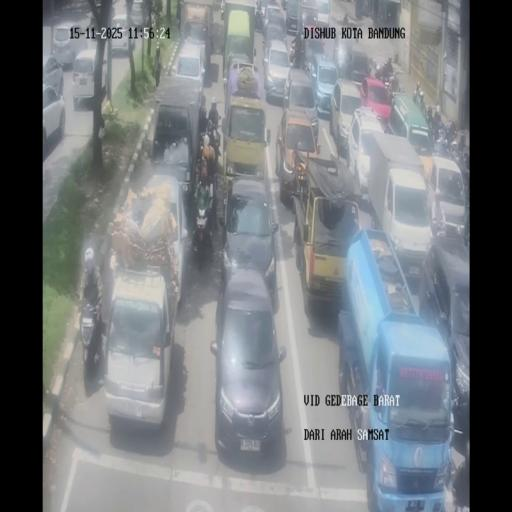3: (291, 154, 360, 314), (360, 134, 429, 262), (284, 0, 300, 35)
car: (210, 270, 286, 465), (102, 264, 177, 430), (417, 236, 469, 444), (219, 178, 279, 302), (135, 172, 191, 302), (282, 64, 318, 142), (330, 77, 363, 152), (224, 56, 260, 120), (72, 48, 106, 109), (262, 40, 292, 104), (174, 40, 207, 98), (51, 24, 79, 68), (112, 12, 139, 54), (302, 36, 327, 76), (42, 54, 64, 97), (348, 50, 372, 84), (87, 6, 112, 29), (254, 0, 274, 23), (302, 12, 319, 38), (130, 0, 146, 24), (316, 0, 329, 14), (221, 0, 225, 20)
truck: (78, 285, 104, 371), (191, 202, 213, 269), (203, 117, 221, 166), (433, 128, 459, 160), (41, 406, 55, 465), (453, 142, 469, 184), (333, 40, 349, 76), (380, 70, 398, 96), (412, 82, 426, 115), (290, 41, 303, 69), (198, 102, 208, 138), (432, 104, 442, 134), (176, 0, 182, 30), (375, 64, 383, 81), (343, 12, 348, 26)
